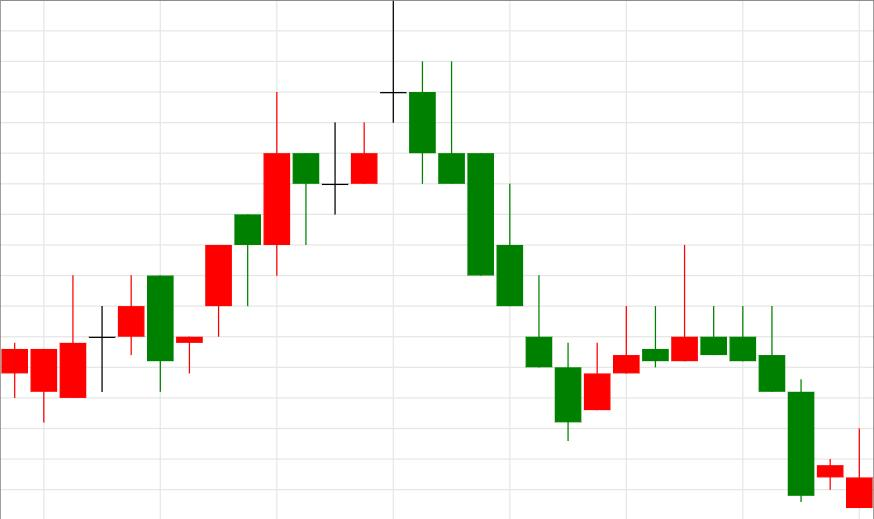evening_star_fall: (176, 2, 436, 372)
shooting_star_fall: (555, 246, 698, 440)
